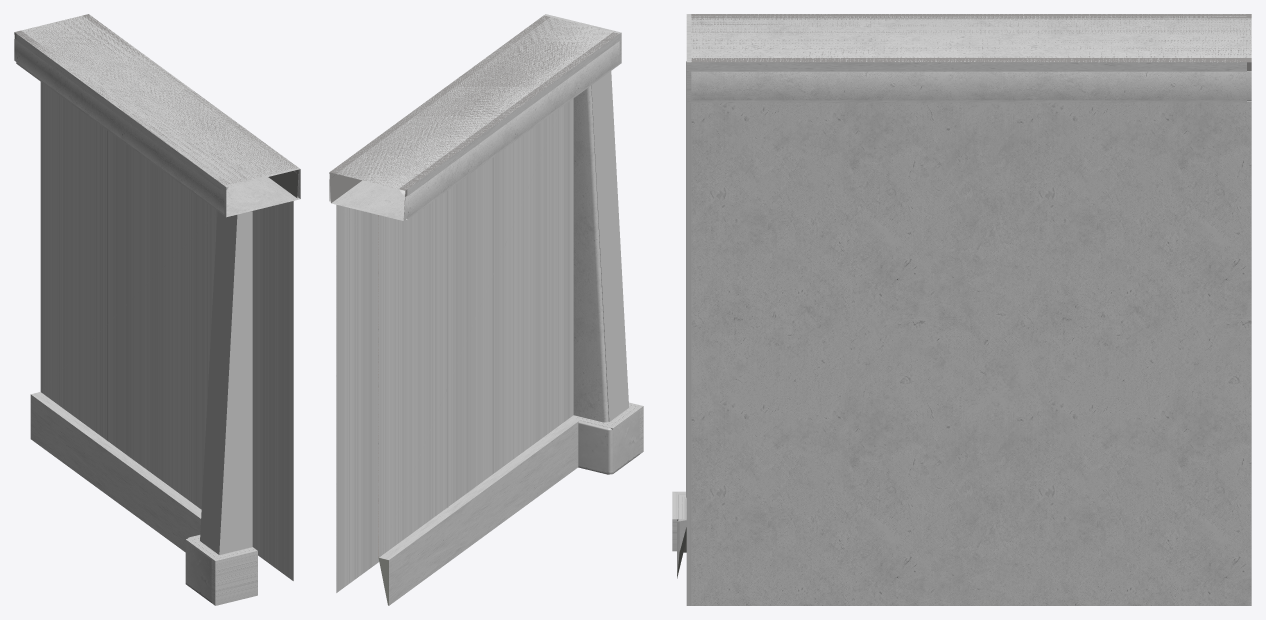
File: si_concrete_wall_mod.DAE
3 views of the same model, side by side, from view 1: azimuth 30°, elevation 25°; view 2: azimuth 150°, elevation 25°; view 3: azimuth 270°, elevation 25° (orthographic). The views are drawn at different scales.
Visible parts, largest first — view 1: Colmesh-1, si_concrete_wall_mod300, si_concrete_wall_mod40; view 2: Colmesh-1, si_concrete_wall_mod300, si_concrete_wall_mod40; view 3: si_concrete_wall_mod300, Colmesh-1, si_concrete_wall_mod40.
Part boxes in pixels (<box>): Colmesh-1: <box>16,15,300,605</box>; si_concrete_wall_mod300: <box>14,15,298,602</box>; si_concrete_wall_mod40: <box>14,14,298,197</box>; Colmesh-1: <box>333,14,643,605</box>; si_concrete_wall_mod300: <box>329,17,639,592</box>; si_concrete_wall_mod40: <box>329,15,619,605</box>; si_concrete_wall_mod300: <box>677,18,1251,605</box>; Colmesh-1: <box>672,14,1246,605</box>; si_concrete_wall_mod40: <box>677,14,1251,578</box>.
Bounding box in the file's own units: 54.77 × 228 × 237.
